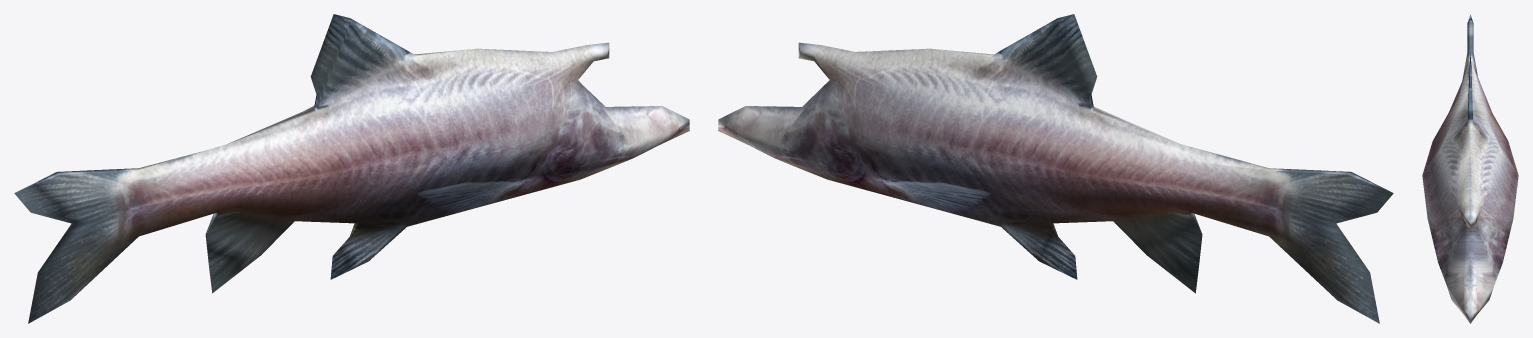
The model's file is hyalineFish.fbx.
3 views of the same model, side by side, from view 1: azimuth 30°, elevation 25°; view 2: azimuth 150°, elevation 25°; view 3: azimuth 270°, elevation 25° (orthographic). The views are drawn at different scales.
Visible parts, largest first — view 1: pCube1; view 2: pCube1; view 3: pCube1.
Boxes of the visible parts, x1,y1,x2,y2 form: pCube1: (14, 14, 689, 323); pCube1: (718, 14, 1393, 323); pCube1: (1422, 14, 1518, 323).
Bounding box in the file's own units: 18.14 × 6.8 × 3.12.
